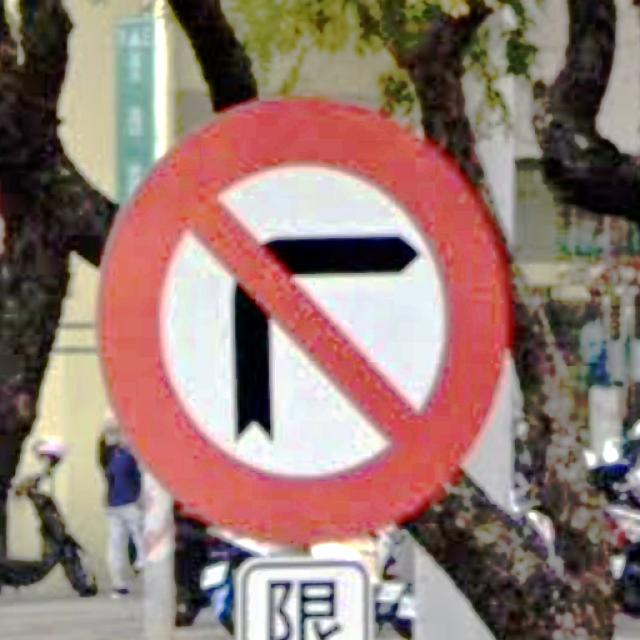noturnright: (95, 98, 509, 543)
